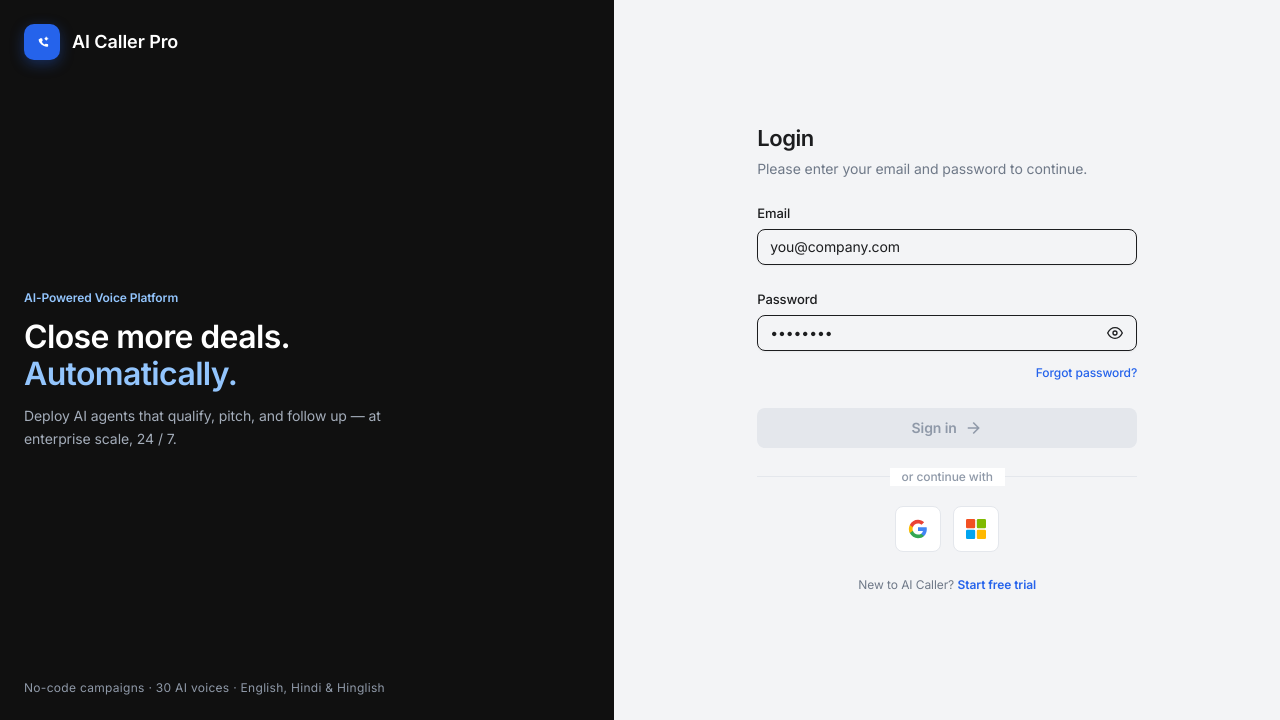
Scenario: Login page › shows the generic error message when login fails with a response error
Type "a@b.com" into the field labelled "Email" at (947, 247), box [757,229,1137,265]
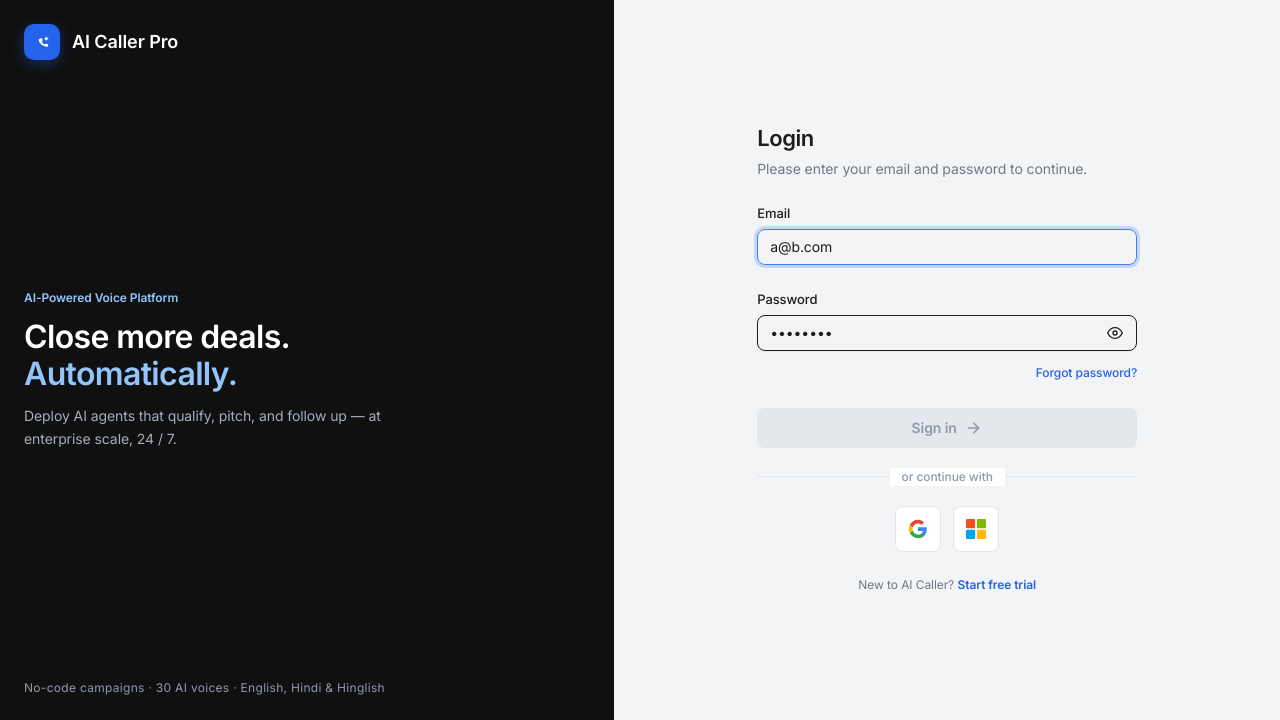
Type "wrongpass" into the password field labelled "Password" at (947, 333), box [757,315,1137,351]
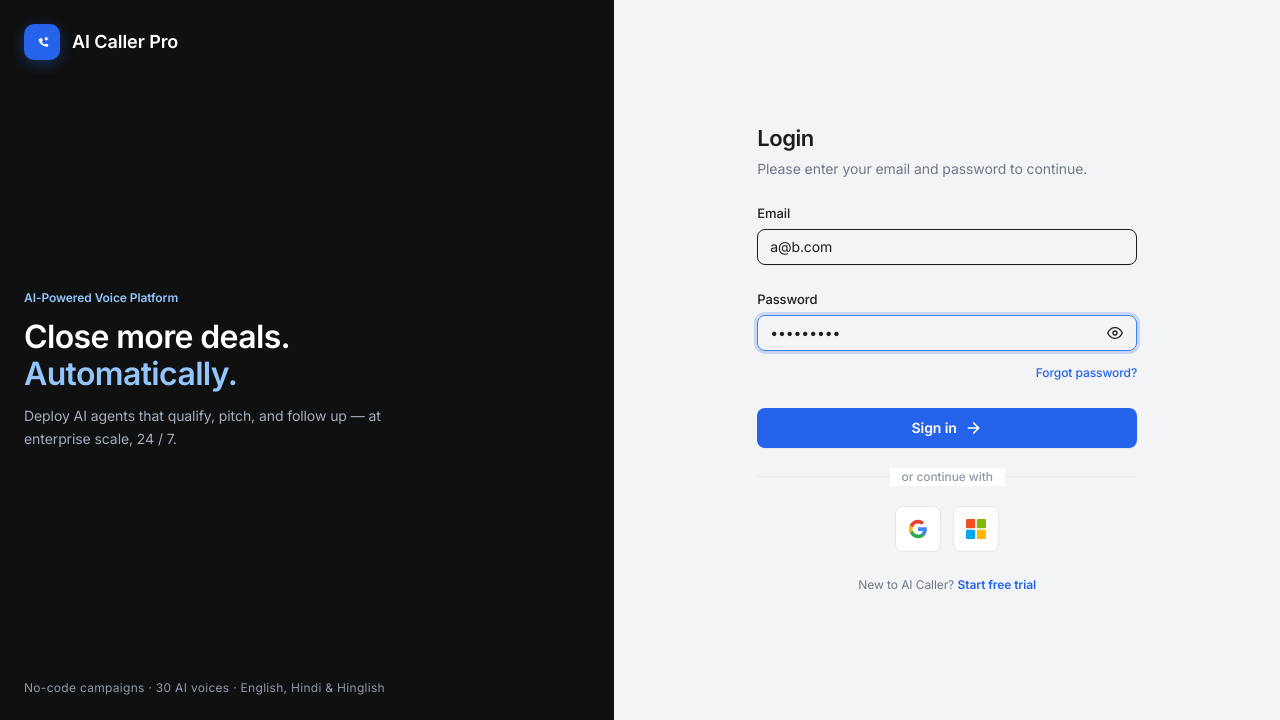
Click the button "Sign in" at (947, 428), box [757,408,1137,448]
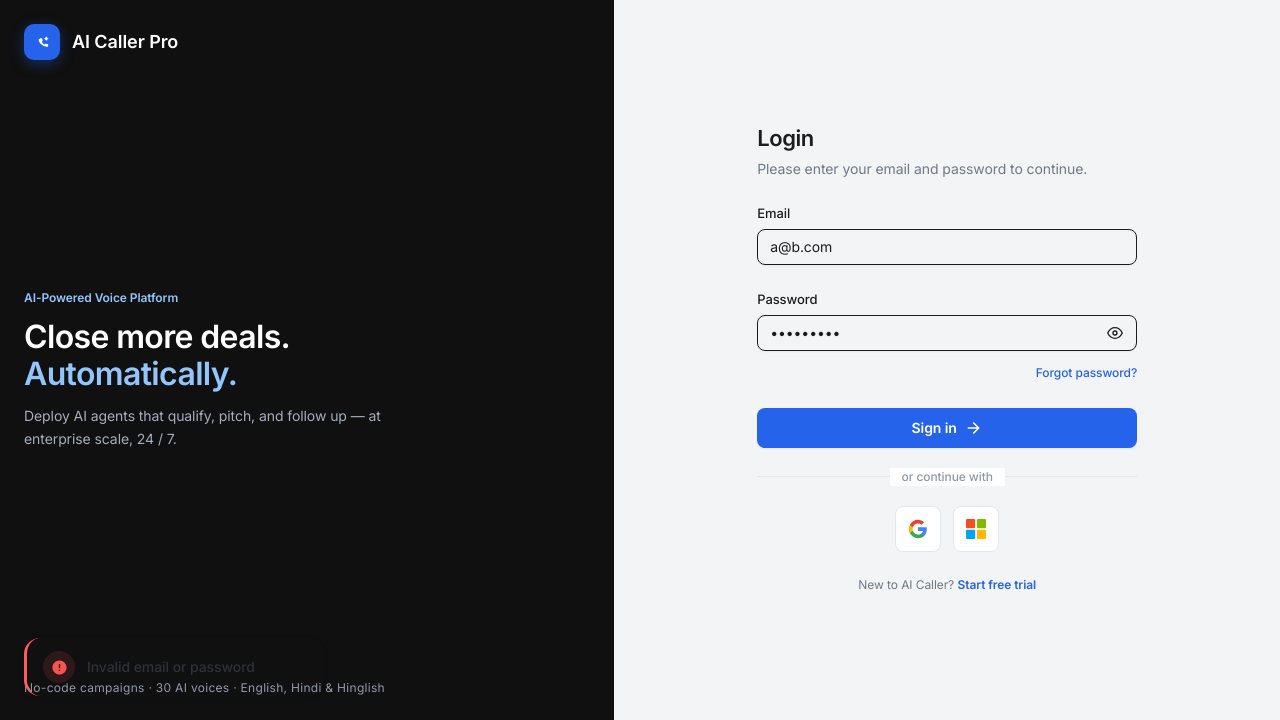
Expected: the text "Invalid email or password" is shown, [87,657,255,677]
